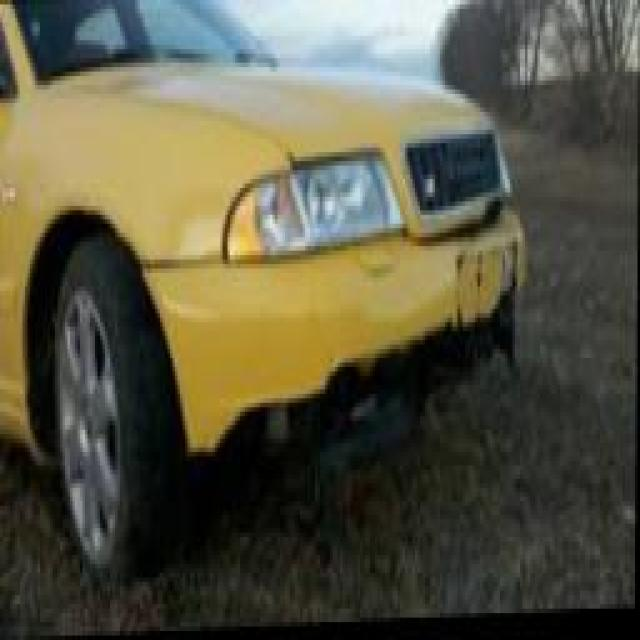replaceable: (217, 293, 541, 442)
